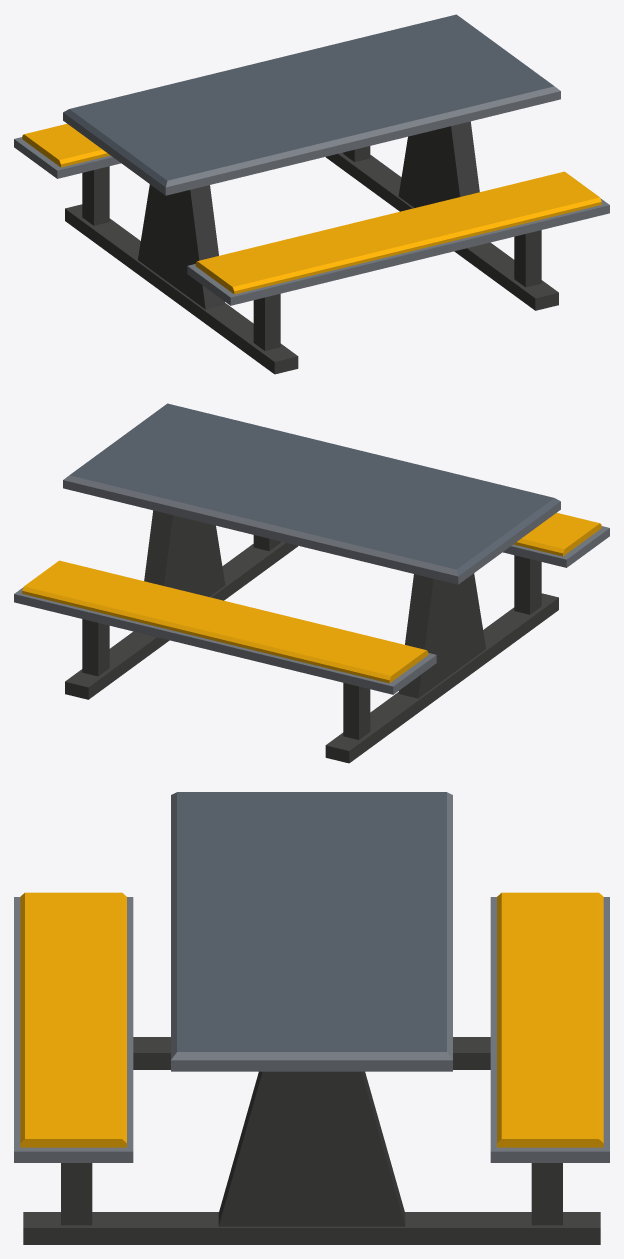
Rendered from mess_table.glb.
The picture shows the model from 3 angles, top to bottom: view 1: azimuth 30°, elevation 25°; view 2: azimuth 150°, elevation 25°; view 3: azimuth 270°, elevation 25°; orthographic projection. The views are drawn at different scales.
Parts seen in each view (by area): view 1: mess_table; view 2: mess_table; view 3: mess_table.
Part boxes in pixels (x1,y1,x2,y2): mess_table: (14,14,609,374); mess_table: (14,403,609,763); mess_table: (14,792,609,1244).
Size of the model in its own units: 2 by 0.8 by 1.9.
